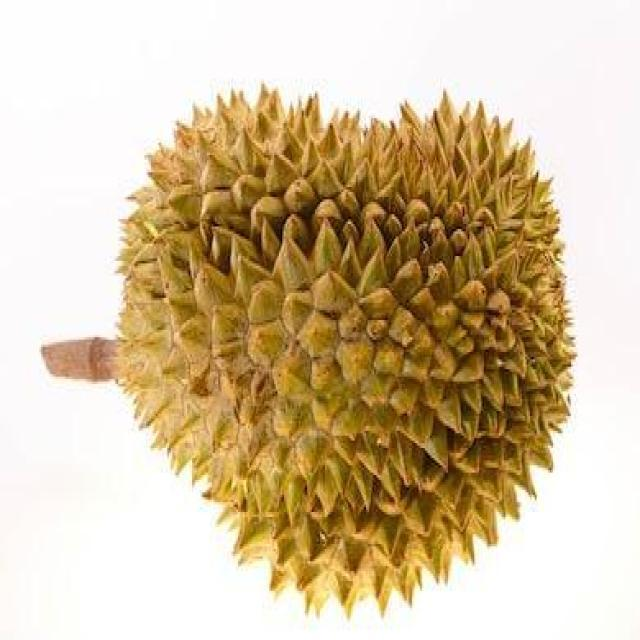mature: (119, 88, 574, 610)
